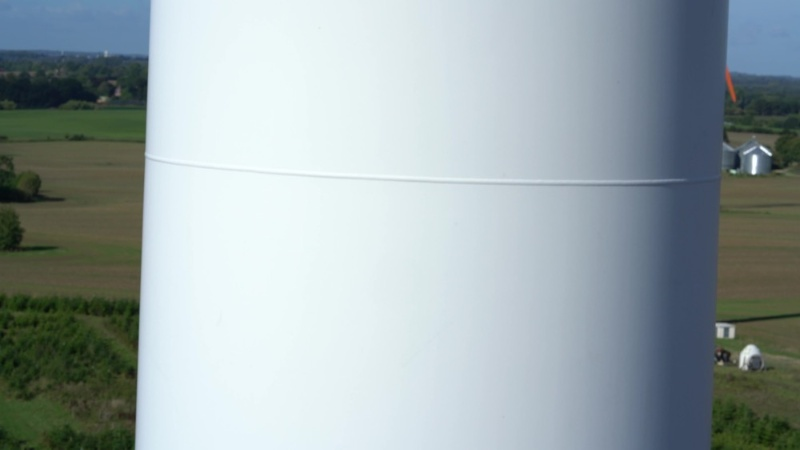weldseam: (143, 144, 724, 200)
